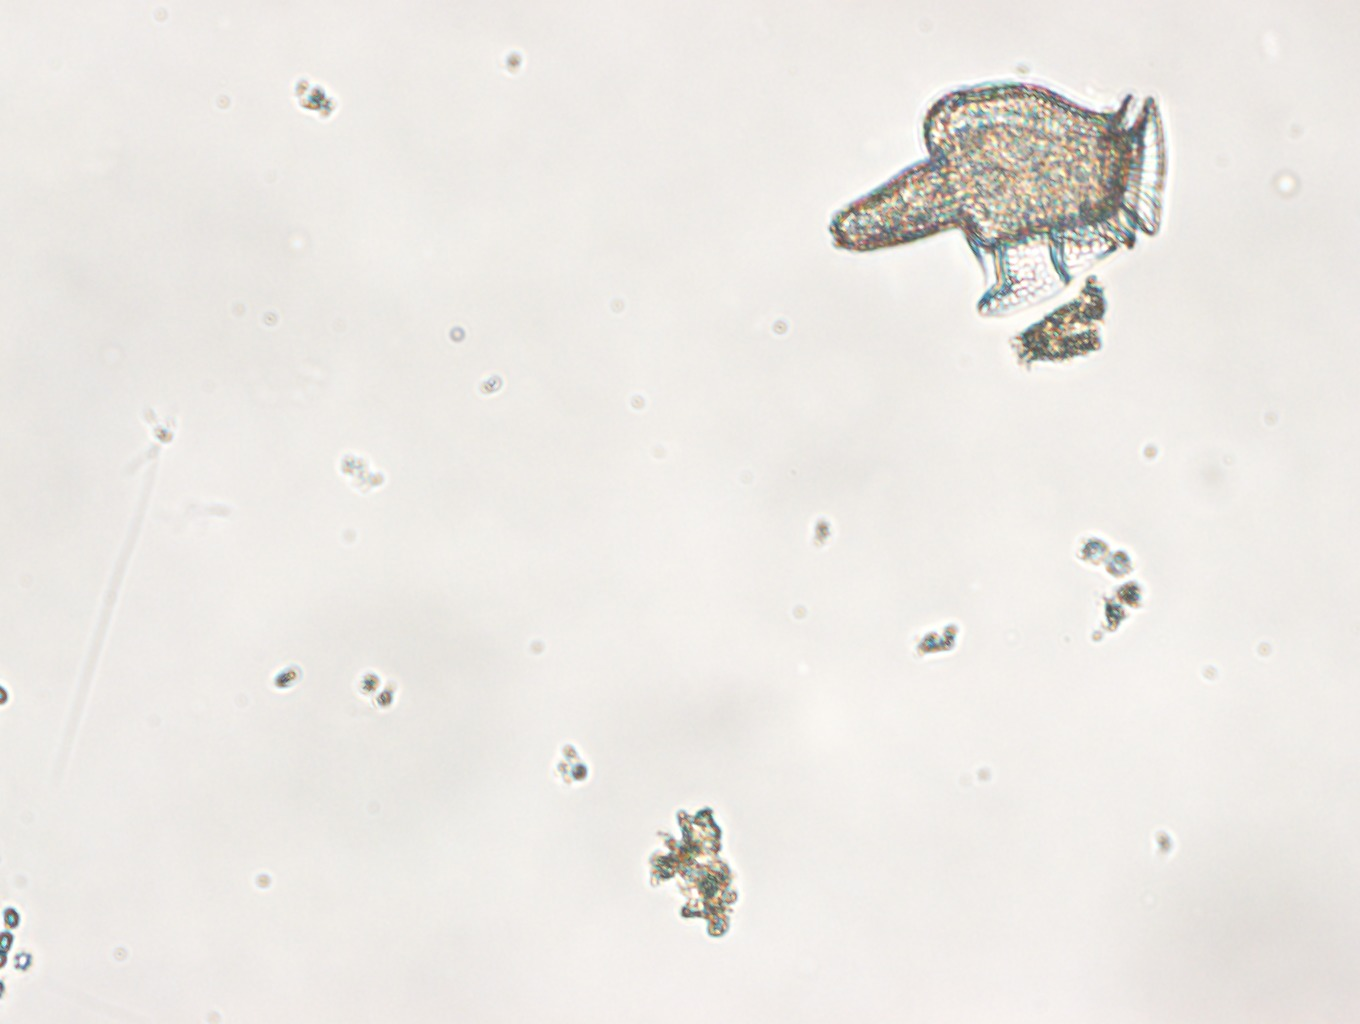dinophysis caudata: (827, 79, 1168, 321)
